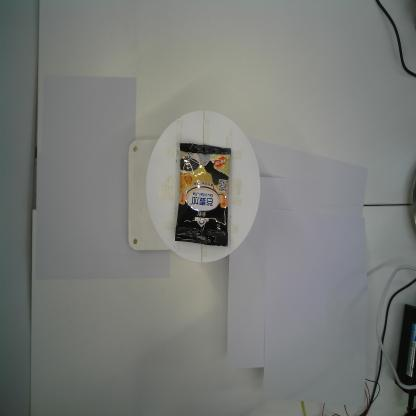Instant Drink: (174, 143, 232, 248)
